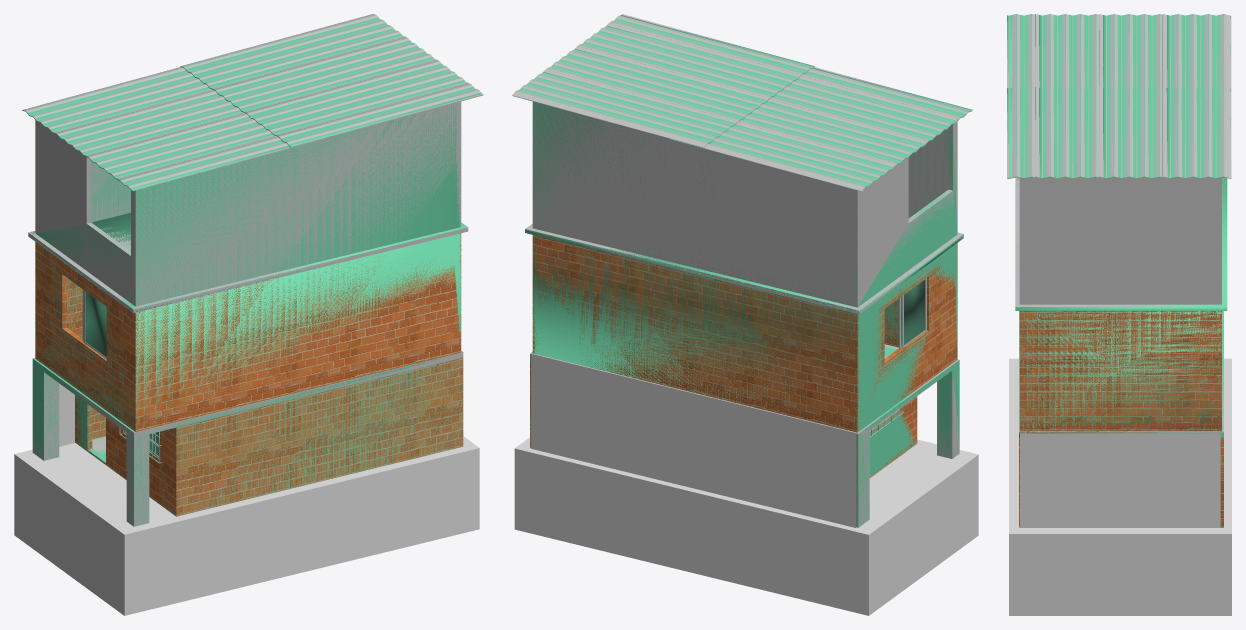
The model's file is CASA 12.fbx.
3 renders of one model, left to right at view 1: azimuth 30°, elevation 25°; view 2: azimuth 150°, elevation 25°; view 3: azimuth 270°, elevation 25°, orthographic.
Visible parts, largest first — view 1: Casa12_LOD0, UTM_Casa12, Cube_LOD0, OCC_Oclusion1; view 2: Casa12_LOD0, UTM_Casa12, Cube_LOD0, OCC_Oclusion1; view 3: Casa12_LOD0, UTM_Casa12, Cube_LOD0, OCC_Oclusion2.
Boxes of the visible parts, left/top/right/bottom form: Casa12_LOD0: left=22, top=14, right=483, bottom=526; UTM_Casa12: left=25, top=15, right=481, bottom=526; Cube_LOD0: left=14, top=436, right=479, bottom=615; OCC_Oclusion1: left=59, top=383, right=74, bottom=446; Casa12_LOD0: left=512, top=14, right=971, bottom=527; UTM_Casa12: left=514, top=15, right=972, bottom=527; Cube_LOD0: left=514, top=437, right=978, bottom=615; OCC_Oclusion1: left=531, top=354, right=855, bottom=527; Casa12_LOD0: left=1007, top=14, right=1231, bottom=527; UTM_Casa12: left=1007, top=14, right=1231, bottom=527; Cube_LOD0: left=1009, top=358, right=1231, bottom=615; OCC_Oclusion2: left=1020, top=433, right=1220, bottom=527.
Size of what is drawn, in the model's own units: 923 by 1073 by 496.
